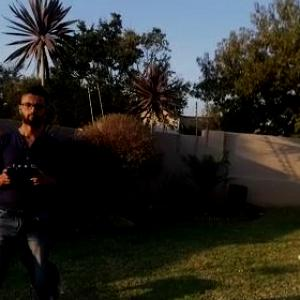follow: (0, 80, 67, 299)
